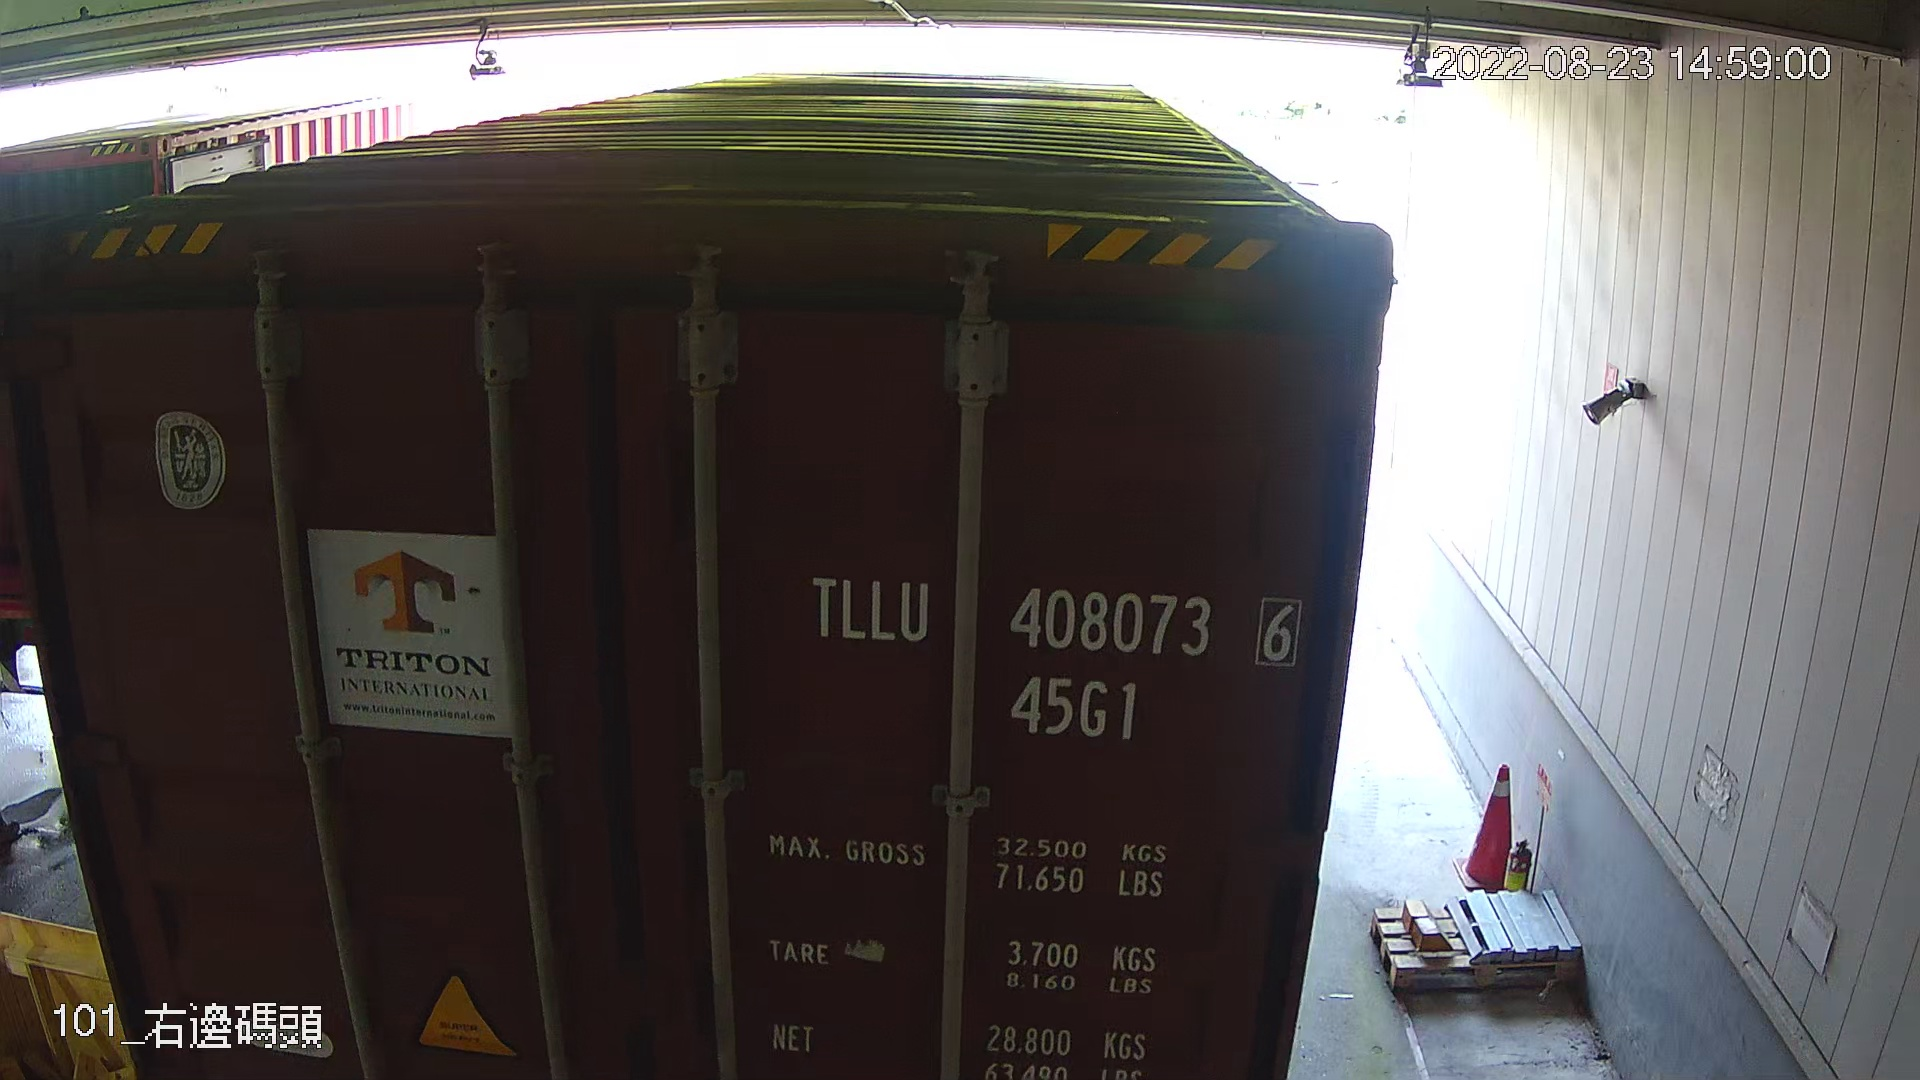container: (789, 551, 1320, 752)
